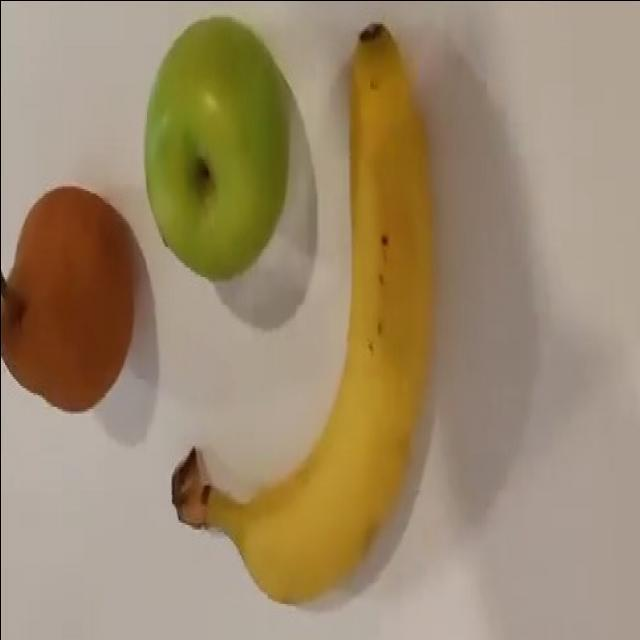Apple: (143, 15, 291, 281), (1, 183, 136, 412)
Banana: (170, 21, 436, 606)
